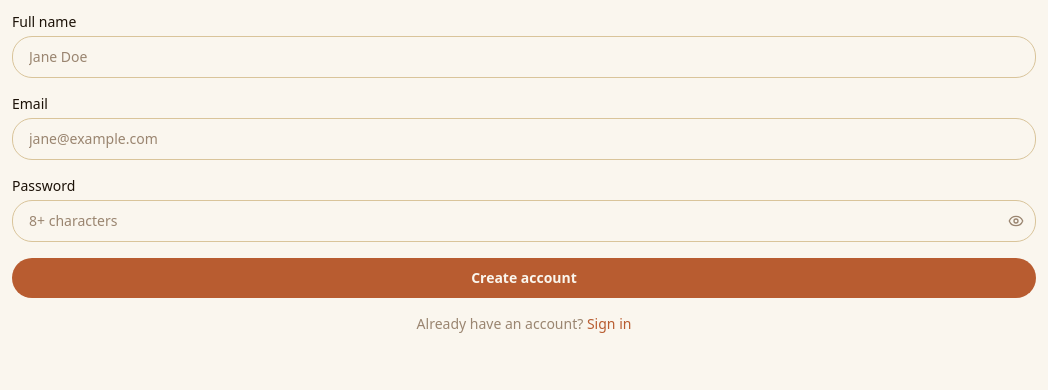
Test: SignUpForm › shows email error for invalid email format
Type "Jane" into the field labelled "Full name" at coordinates (524, 57), box [12,36,1036,78]
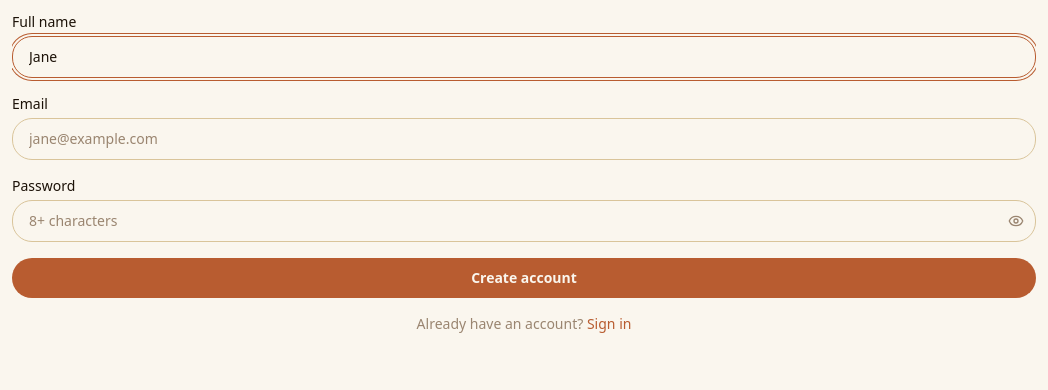
Type "not-an-email" into the field labelled "Email" at coordinates (524, 139), box [12,118,1036,160]
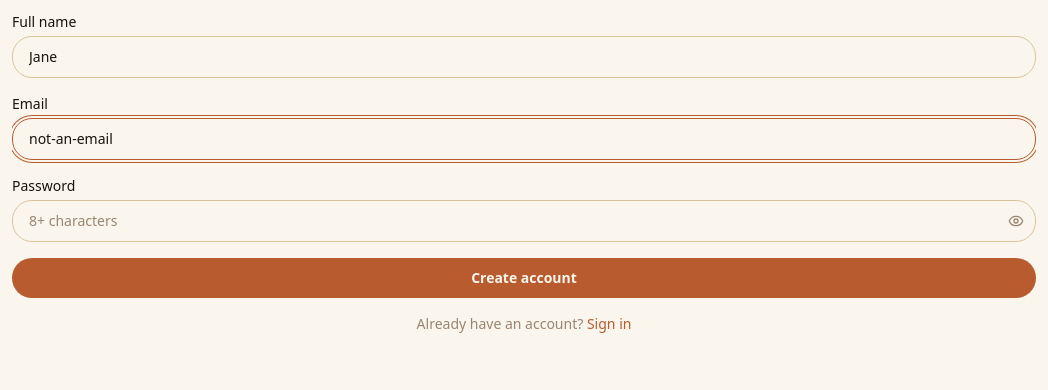
Click the button "Create account" at coordinates (524, 278), box [12,258,1036,298]
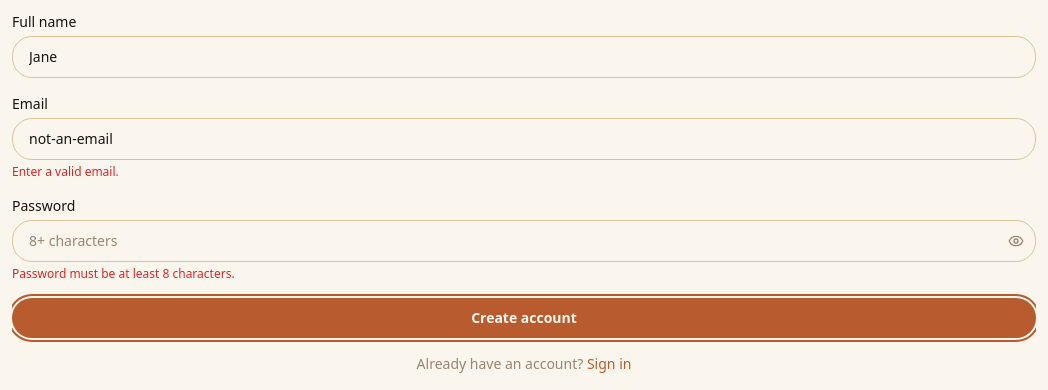
Check: the text "Enter a valid email." is shown, box [12,163,119,180]
